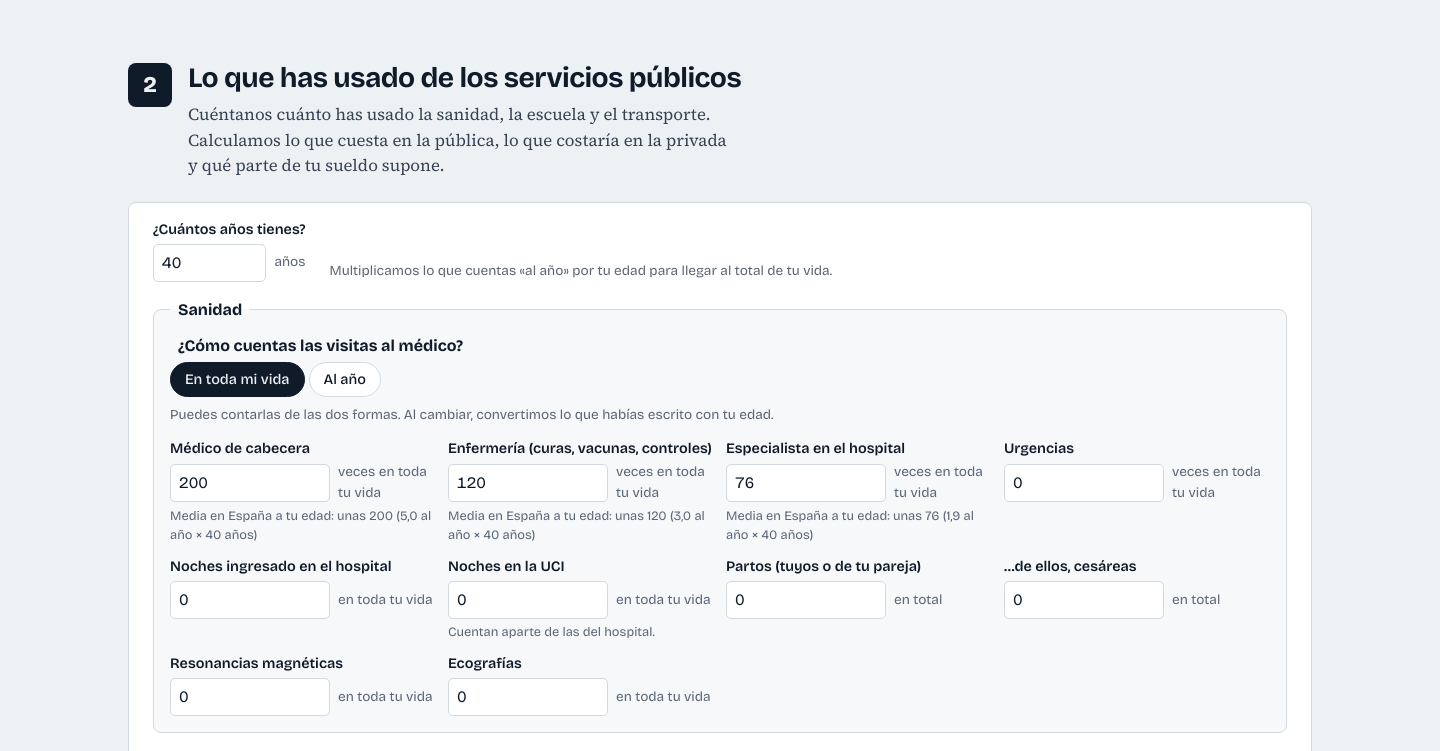
Test: Simulador › servicios: por defecto las visitas se cuentan en toda la vida y se pueden contar al año
The image size is (1440, 751).
(page scrolled)
Expected: the number field labelled "Médico de cabecera" holds "200", [170, 464, 330, 502]
Click the radio button labelled "Al año" at (345,379), box [308, 362, 381, 397]
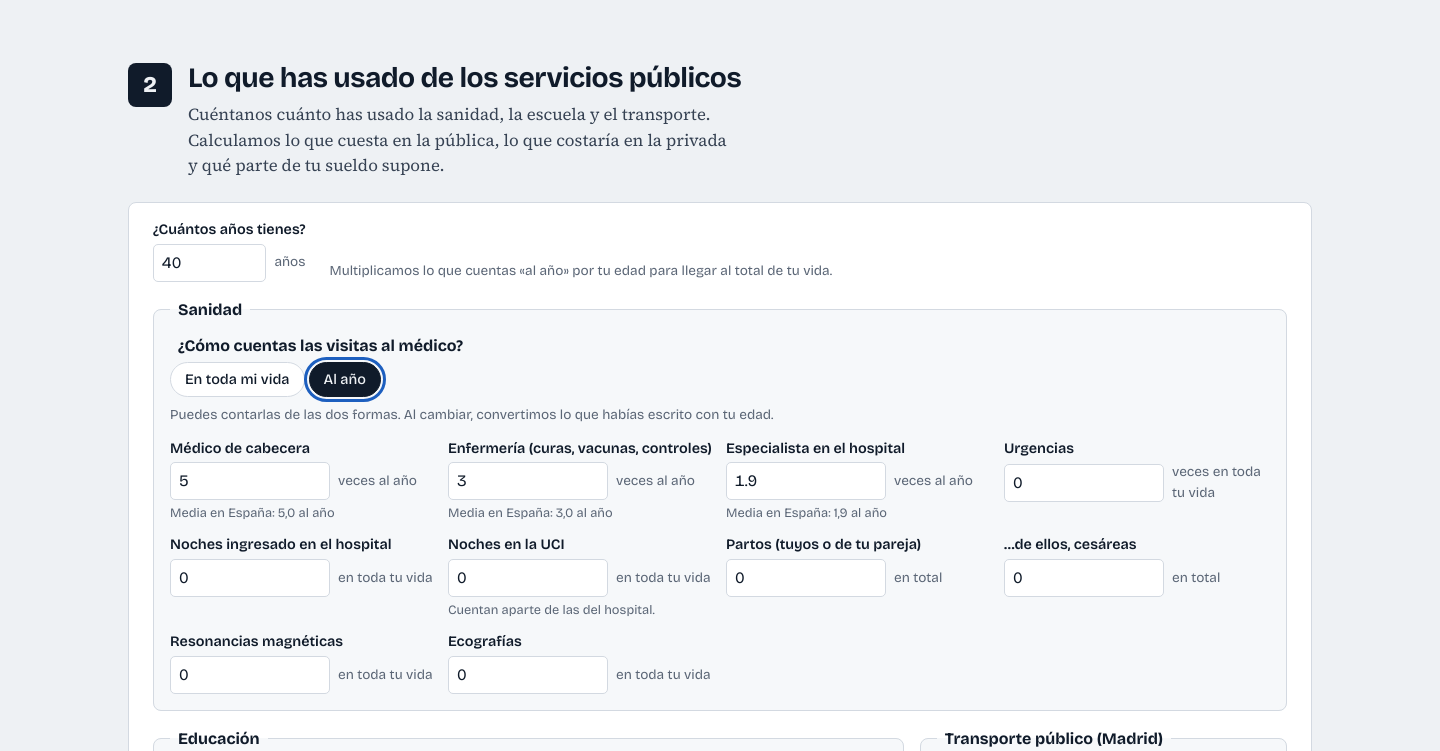
Result: the number field labelled "Médico de cabecera" holds "5" at [170, 462, 330, 500]
Replace the text in the number field labelled "¿Cuántos años tienes?" with "50" at (210,263), box [153, 244, 266, 282]
(page scrolled)
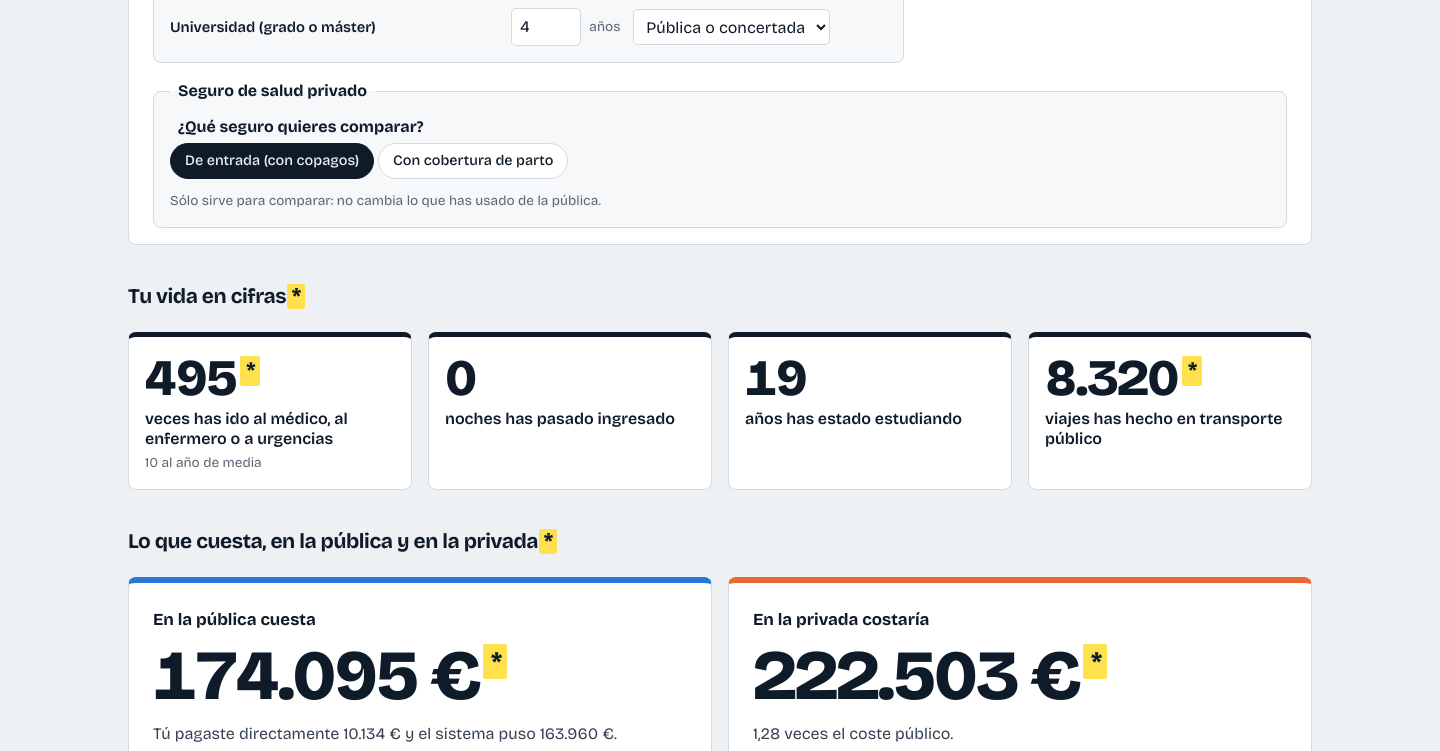
Result: the text "495" is shown at [145, 348, 236, 410]
